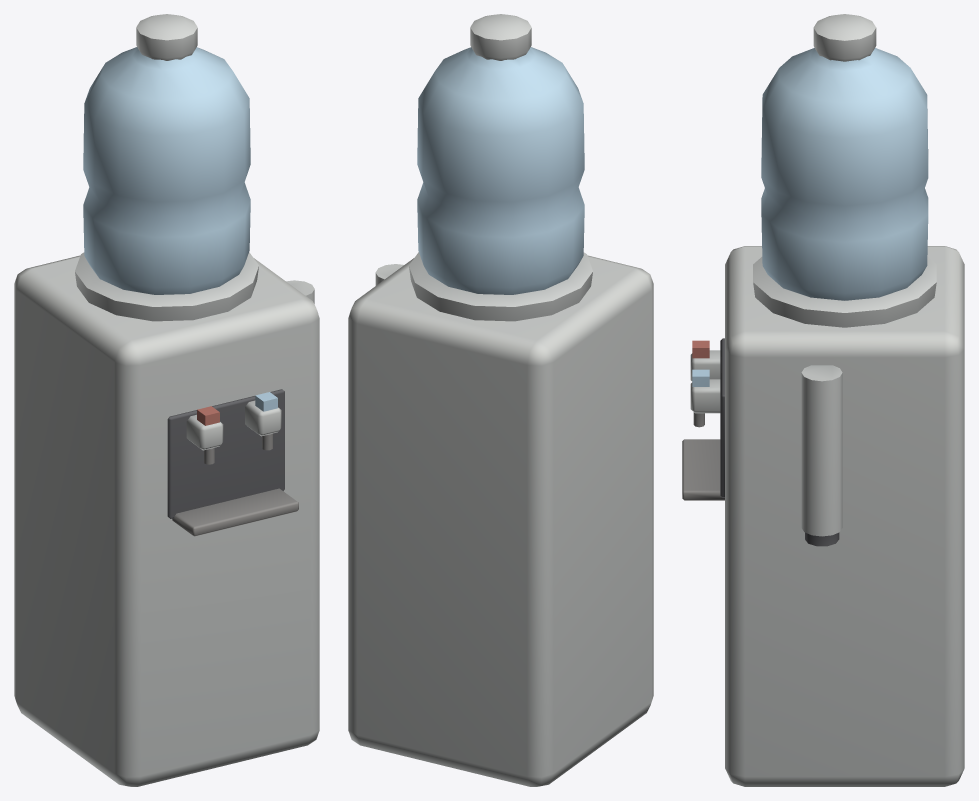
The model's file is cooler.glb.
3 views of the same model, side by side, from view 1: azimuth 30°, elevation 25°; view 2: azimuth 150°, elevation 25°; view 3: azimuth 270°, elevation 25° (orthographic).
Parts seen in each view (by area): view 1: furn_cooler; view 2: furn_cooler; view 3: furn_cooler.
Boxes of the visible parts, bbox=[...] form: furn_cooler: bbox=[14, 14, 319, 786]; furn_cooler: bbox=[348, 14, 653, 786]; furn_cooler: bbox=[682, 14, 964, 786].
Bounding box in the file's own units: 0.486 × 1.39 × 0.495.
